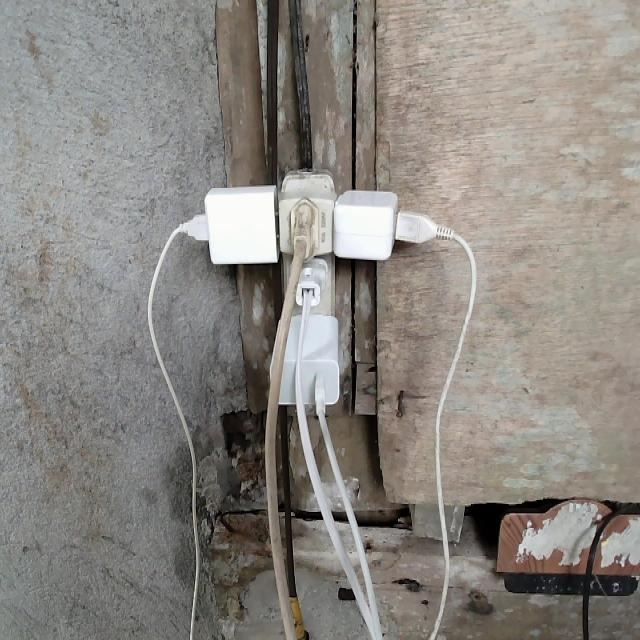-: (174, 167, 456, 417)
